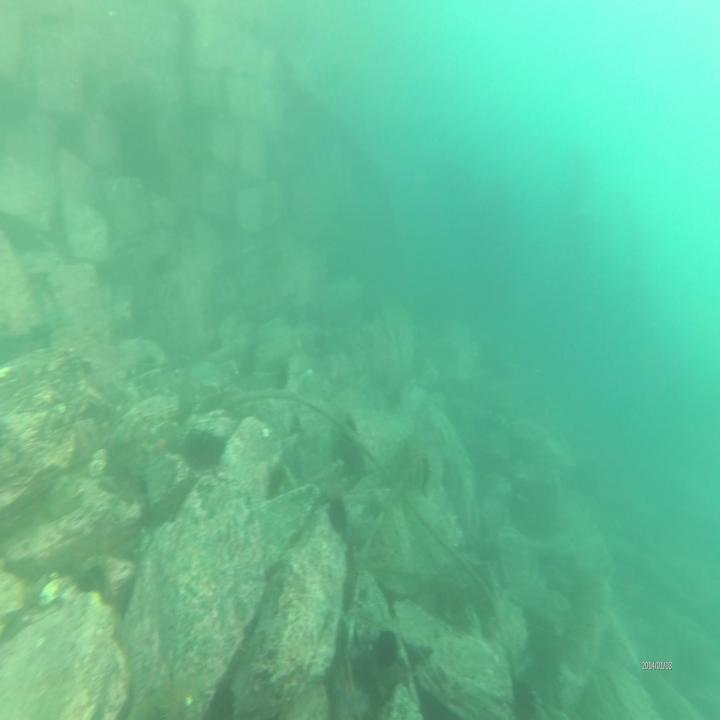echinus: (186, 425, 224, 471), (371, 624, 400, 670), (327, 491, 349, 535)
